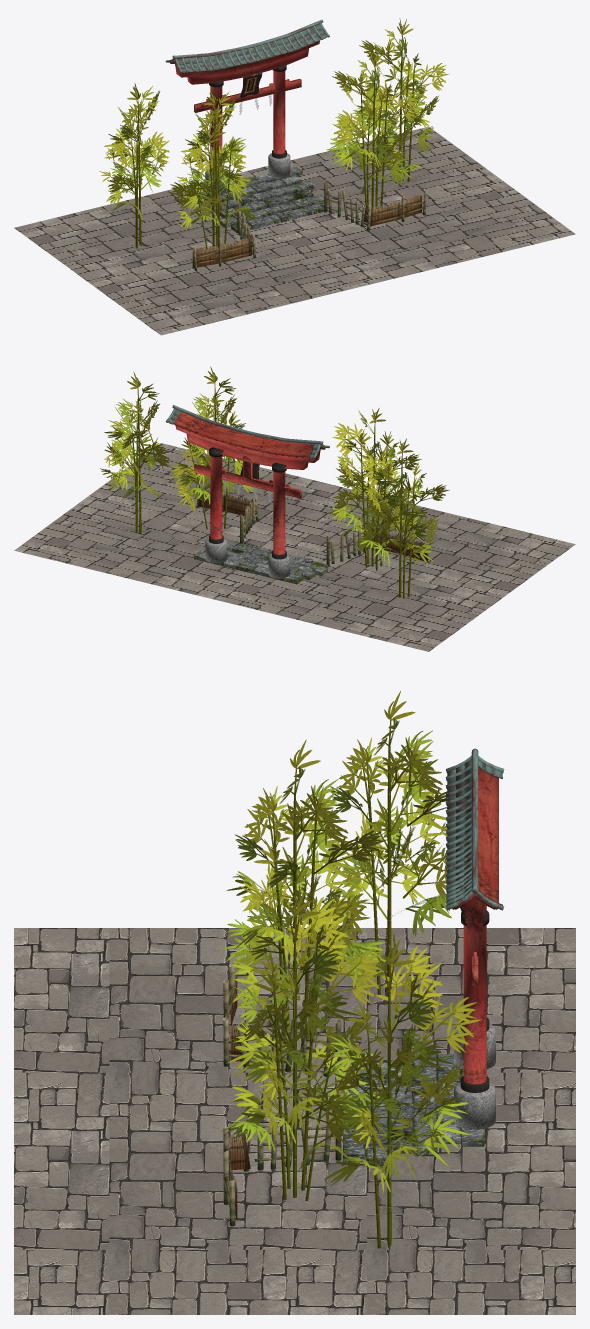
Rendered from Bamboo_Forrest.fbx.
The picture shows the model from 3 angles, top to bottom: view 1: azimuth 30°, elevation 25°; view 2: azimuth 150°, elevation 25°; view 3: azimuth 270°, elevation 25°; orthographic projection. The views are drawn at different scales.
Parts seen in each view (by area): view 1: pPlane1, bamboo:bamboo, bamboo2, brama:Cube.014, Object008, Torii_gate:Torii_gate:pCylinder13, Torii_gate:Torii_gate:pPlane2; view 2: pPlane1, brama:Cube.014, bamboo2, bamboo:bamboo, Object008, Torii_gate:Torii_gate:pPlane2, Torii_gate:Torii_gate:pCylinder13; view 3: pPlane1, bamboo:bamboo, bamboo2, brama:Cube.014, Object008, Torii_gate:Torii_gate:pCylinder13, Torii_gate:Torii_gate:pPlane2.
Part boxes in pixels (x1=…): pPlane1: x1=14, y1=127, x2=575, y2=335; bamboo:bamboo: x1=168, y1=49, x2=422, y2=249; bamboo2: x1=99, y1=18, x2=449, y2=248; brama:Cube.014: x1=165, y1=19, x2=329, y2=193; Object008: x1=200, y1=167, x2=327, y2=232; Torii_gate:Torii_gate:pCylinder13: x1=193, y1=180, x2=427, y2=270; Torii_gate:Torii_gate:pPlane2: x1=192, y1=194, x2=421, y2=267; pPlane1: x1=14, y1=443, x2=575, y2=651; brama:Cube.014: x1=165, y1=405, x2=329, y2=578; bamboo2: x1=100, y1=371, x2=449, y2=598; bamboo:bamboo: x1=168, y1=366, x2=421, y2=570; Object008: x1=194, y1=543, x2=327, y2=584; Torii_gate:Torii_gate:pPlane2: x1=198, y1=489, x2=427, y2=561; Torii_gate:Torii_gate:pCylinder13: x1=196, y1=482, x2=429, y2=566; pPlane1: x1=14, y1=928, x2=575, y2=1314; bamboo:bamboo: x1=220, y1=739, x2=387, y2=1200; bamboo2: x1=324, y1=691, x2=481, y2=1248; brama:Cube.014: x1=445, y1=748, x2=504, y2=1129; Object008: x1=340, y1=1053, x2=484, y2=1165; Torii_gate:Torii_gate:pCylinder13: x1=223, y1=963, x2=341, y2=1226; Torii_gate:Torii_gate:pPlane2: x1=230, y1=974, x2=250, y2=1220.
Size of the model in its own units: 58.6 by 21.8 by 35.99.
